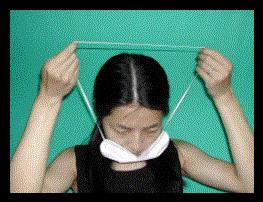WRONG: (108, 121, 162, 175)
